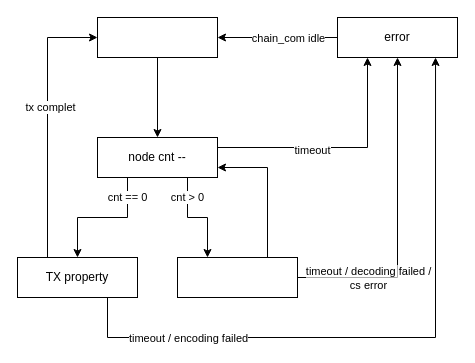
Image size: 475x363. Some labels were removed from this diagram. The shapes that lost their labels are listed below. From the top down, each one's centre as x and y in pixels, then its label:
At [157,37]: "rx header node cnt ++".
At [237,277]: "RX property".
